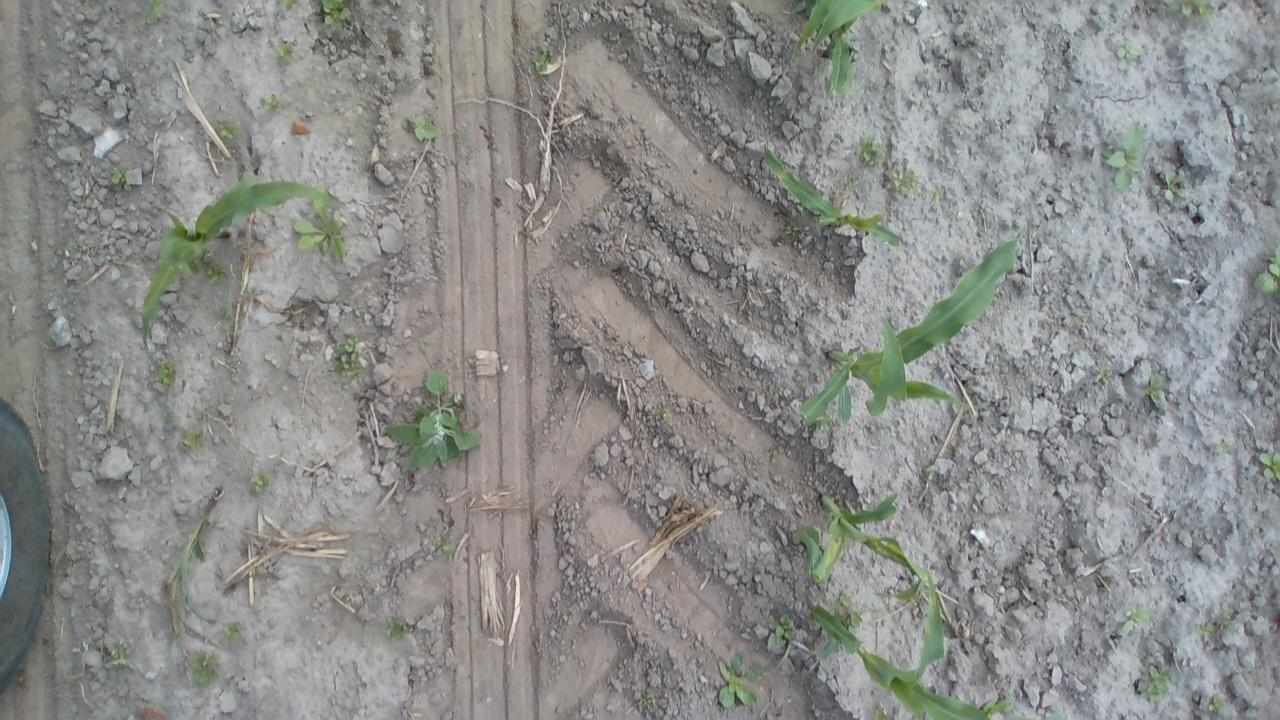Maize: (793, 226, 1028, 436), (135, 180, 350, 370), (813, 560, 1015, 720), (790, 482, 926, 612), (758, 143, 906, 249), (162, 476, 226, 642), (790, 0, 885, 102), (138, 0, 166, 29)
Weeds: (378, 373, 484, 485), (292, 199, 348, 263), (712, 648, 764, 710), (1101, 120, 1144, 190), (829, 590, 875, 632), (182, 648, 226, 690), (1129, 662, 1171, 704), (330, 328, 364, 378), (882, 158, 920, 200), (1254, 244, 1280, 295), (1121, 603, 1160, 633), (1138, 373, 1170, 407), (1162, 0, 1216, 20), (1163, 166, 1189, 207), (854, 132, 882, 169), (411, 116, 442, 146), (382, 613, 413, 643), (767, 612, 797, 642), (528, 44, 555, 77), (107, 638, 136, 668), (108, 162, 136, 192), (1257, 444, 1280, 480), (320, 0, 350, 27), (154, 361, 177, 393), (1114, 38, 1142, 60), (984, 698, 1014, 718), (432, 528, 453, 556), (260, 91, 284, 115), (204, 262, 227, 286), (248, 472, 274, 493), (778, 220, 801, 243), (183, 430, 204, 455), (636, 691, 656, 717), (220, 616, 240, 640), (1216, 598, 1234, 624), (274, 40, 294, 63), (1092, 364, 1114, 383), (216, 120, 239, 138), (1208, 692, 1227, 713), (928, 185, 948, 204), (869, 703, 890, 720), (1214, 436, 1232, 454), (818, 414, 832, 434), (1197, 618, 1214, 634), (215, 306, 229, 323), (843, 174, 856, 191), (1074, 312, 1088, 326), (282, 0, 299, 9), (770, 446, 779, 463), (660, 406, 670, 418)
